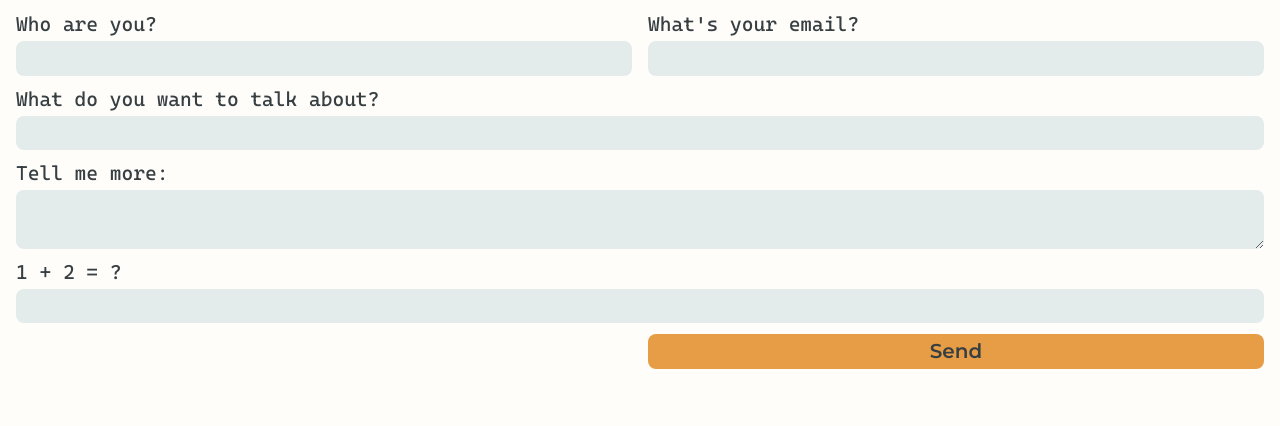
Scenario: component/contact/Form › Form › or if there was an error sending the message
Type "a name" into the field labelled "Who are you?" at (324, 59), box [16,41,632,76]
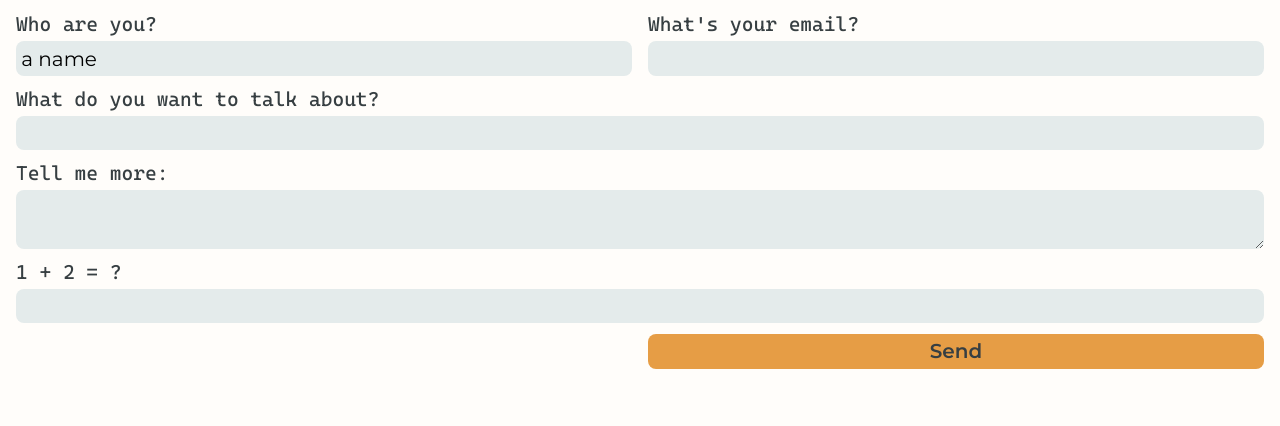
Type "an@email.address" into the field labelled "What's your email?" at (956, 59), box [648,41,1264,76]
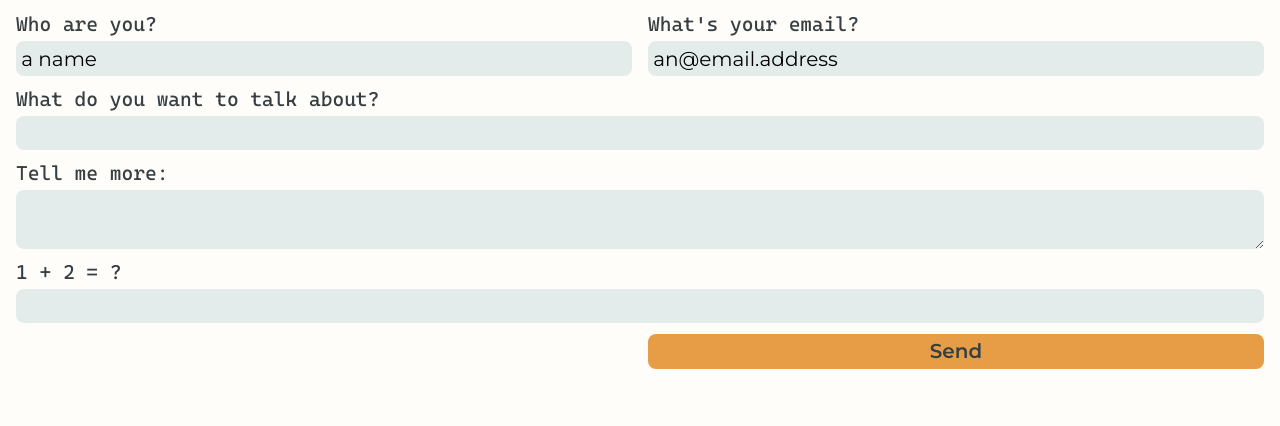
Type "a message" into the text box labelled "Tell me more:" at (640, 220), box [16,190,1264,249]
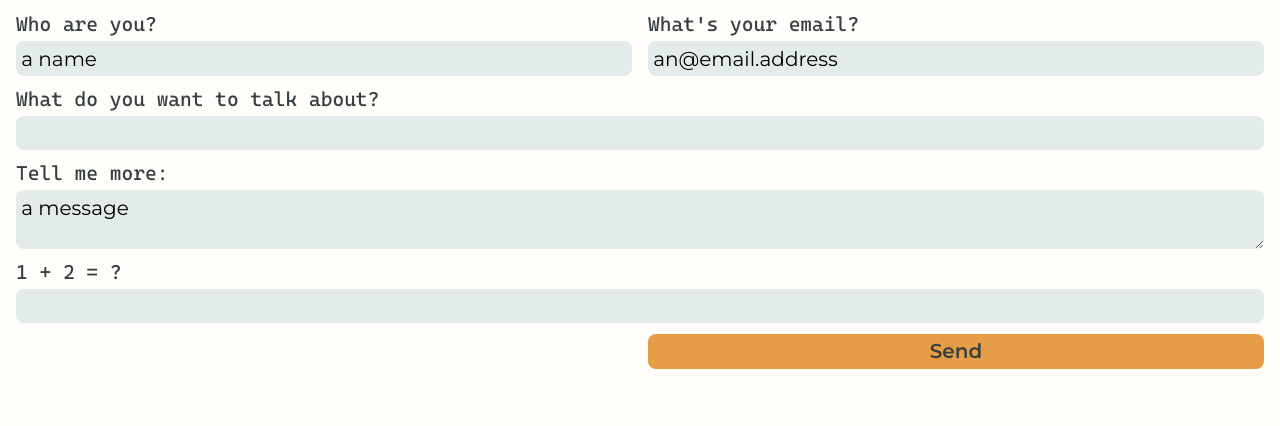
Type "3" into the field labelled "1 + 2 = ?" at (640, 306), box [16,289,1264,323]
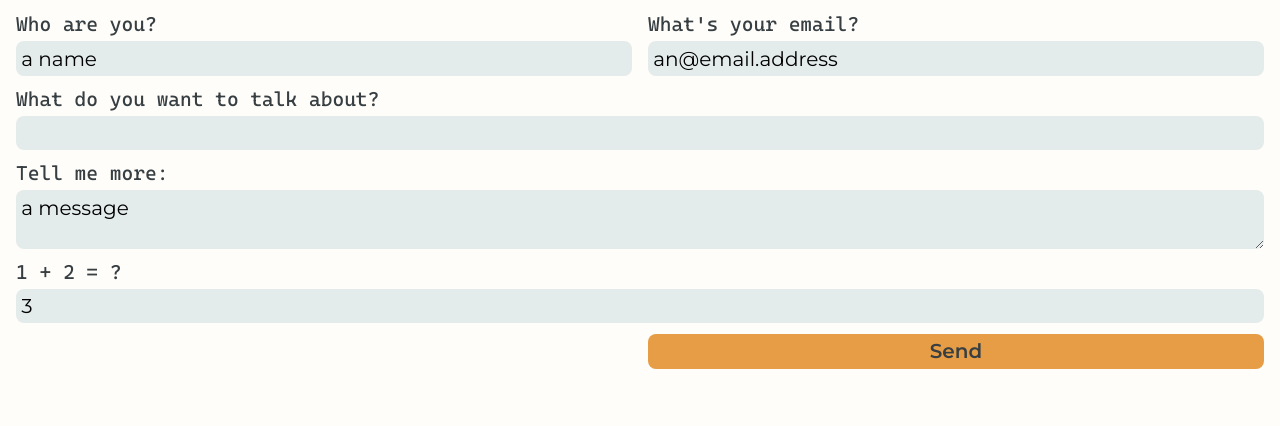
Click the button "Send" at (956, 351), box [648,334,1264,369]
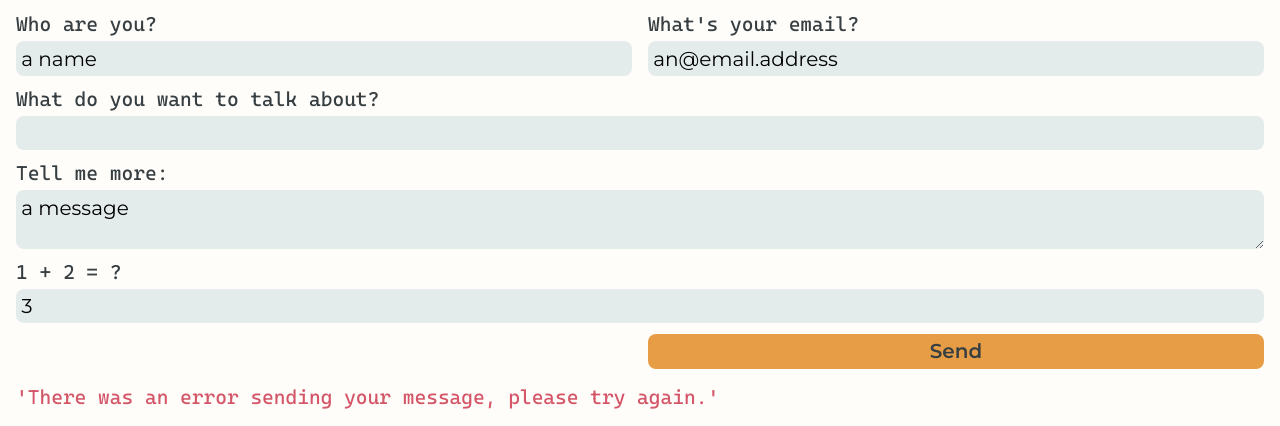
Result: the text "'There was an error sending your message, please try again.'" is shown at [16,385,719,409]
